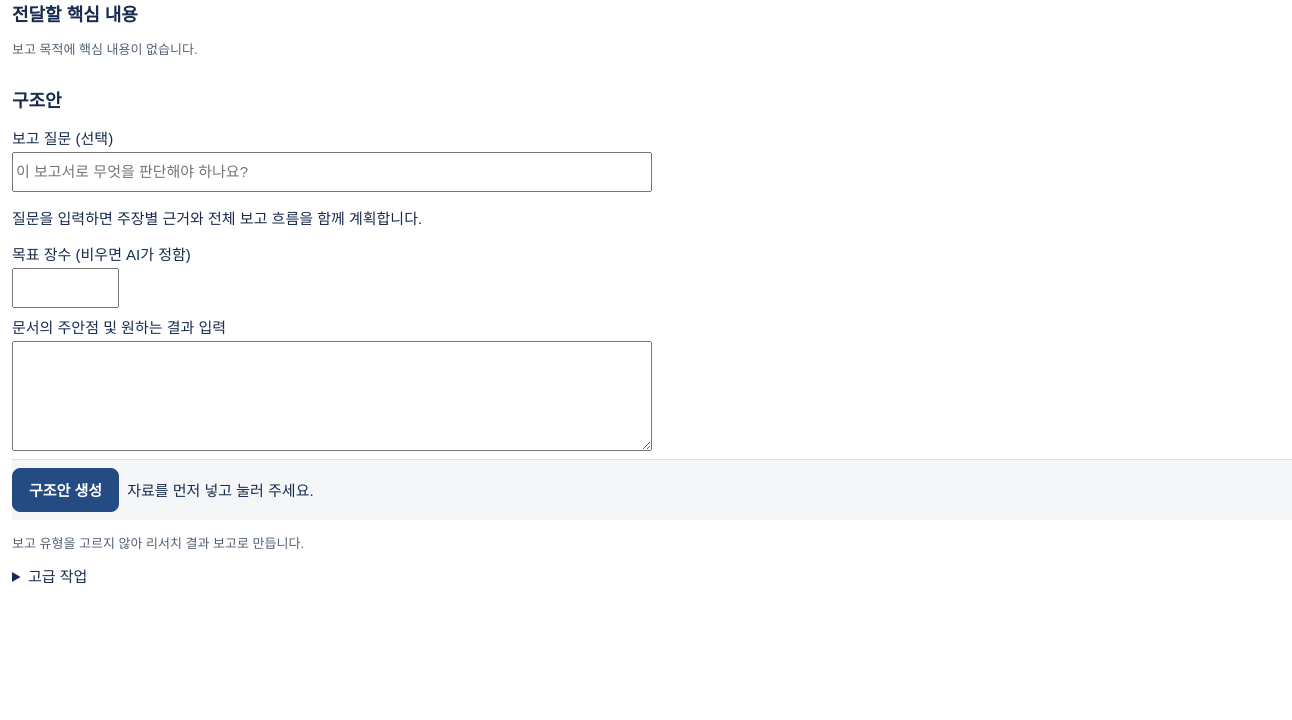
Scenario: 형식 오류면 원문과 재시도 경로를 보여준다
Click the button "구조안 생성" at [66, 490], box [12, 468, 119, 512]
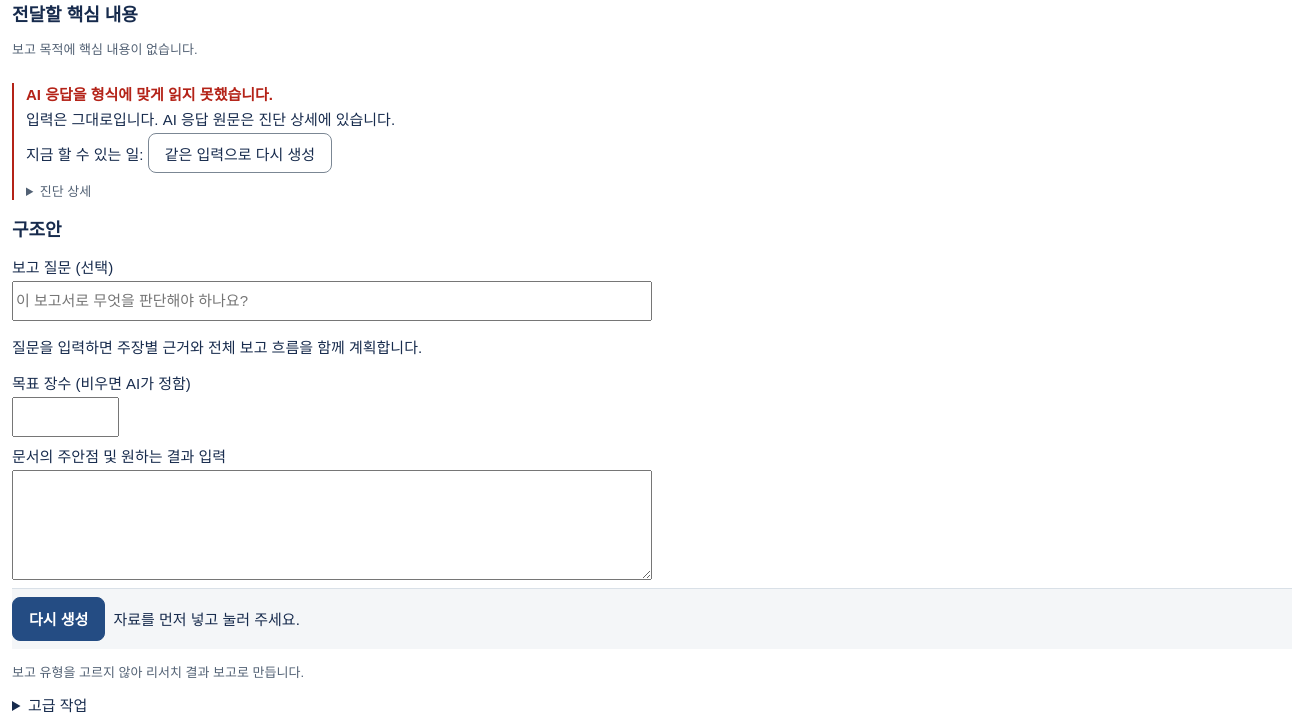
Expected: the text "AI 응답을 형식에 맞게 읽지 못했습니다." is shown, [26, 86, 273, 103]
Expected: the button "다시 생성" is shown, [12, 597, 105, 641]
